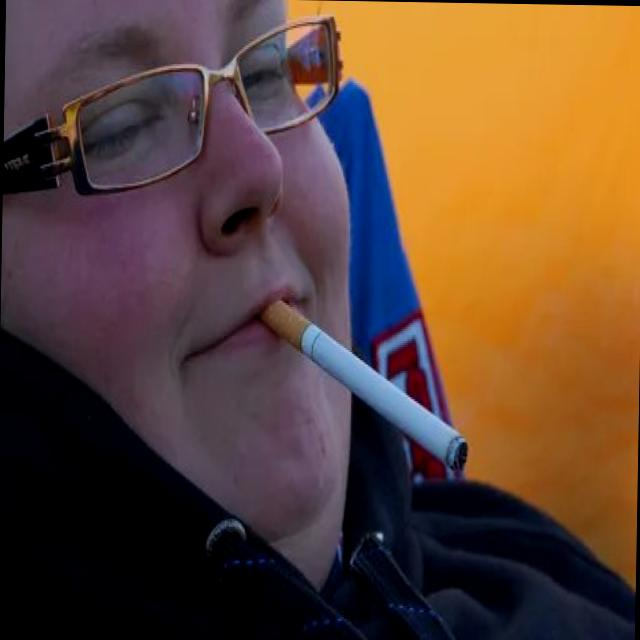smoke: (255, 292, 472, 478)
